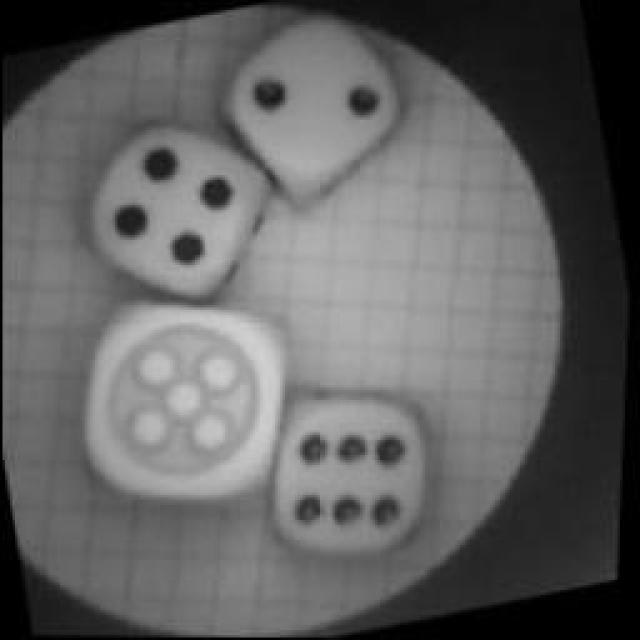dice_2: (202, 1, 422, 221)
dice_4: (55, 99, 300, 334)
dice_5: (46, 269, 336, 539)
dice_6: (246, 366, 462, 582)
